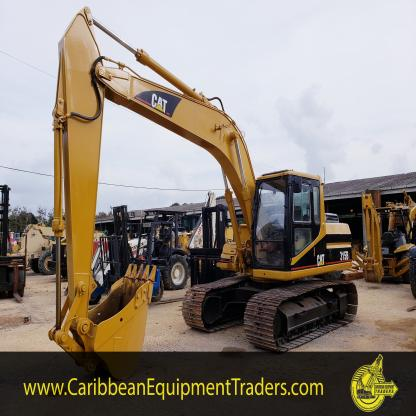excavator: (38, 7, 362, 366)
